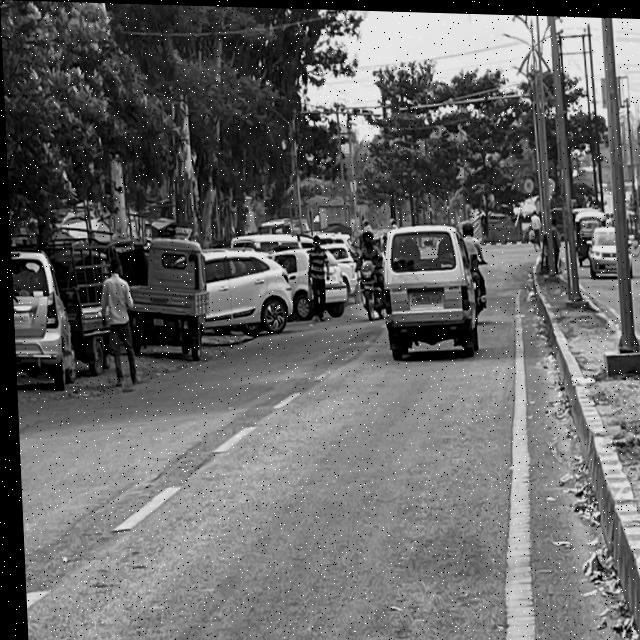bike: (353, 259, 382, 317)
car: (377, 209, 476, 377), (10, 238, 76, 398), (204, 233, 290, 349), (278, 236, 347, 317), (584, 211, 623, 280)
